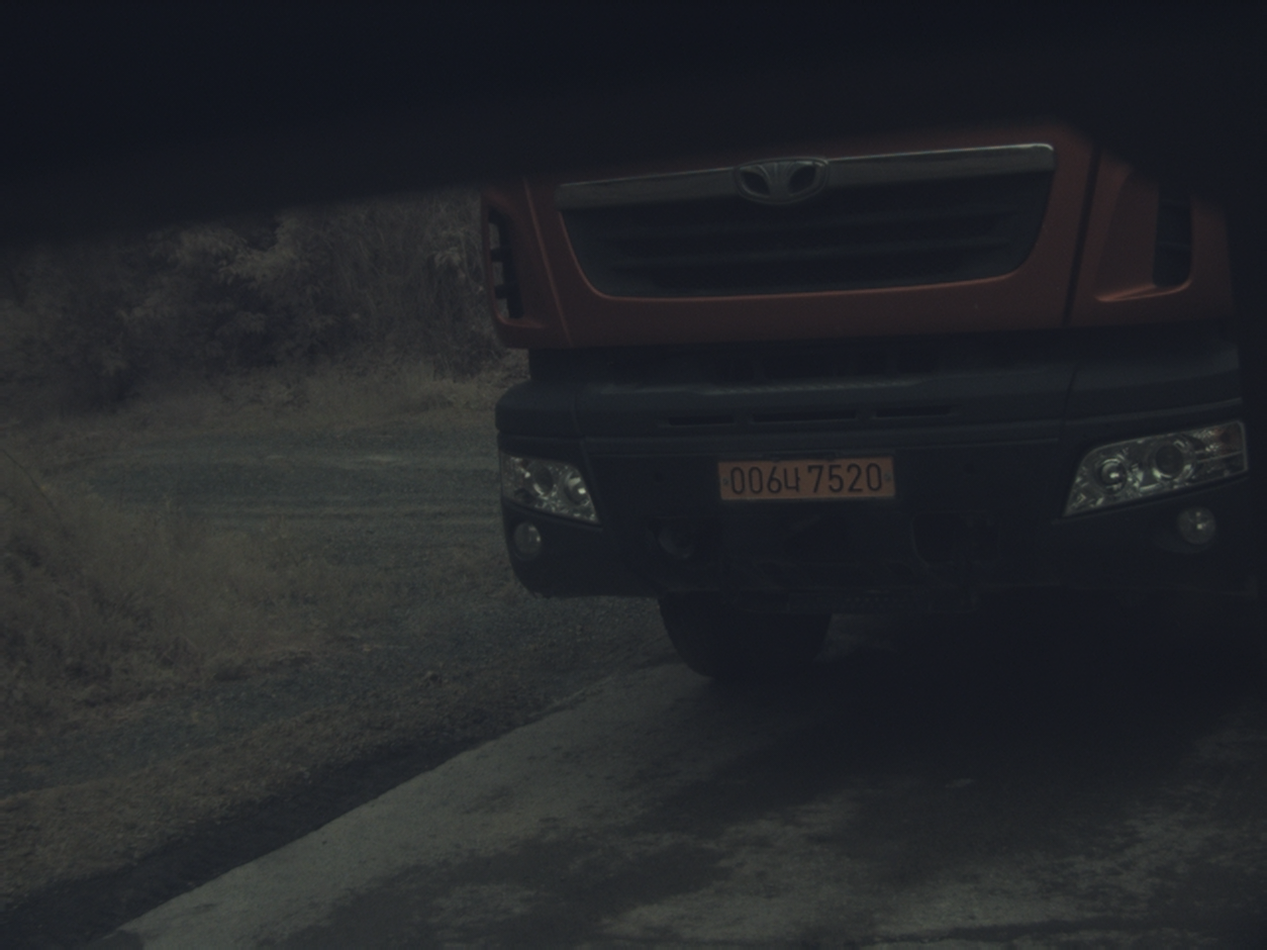license_plate: (718, 456, 893, 499)
truck: (485, 124, 1252, 675)
